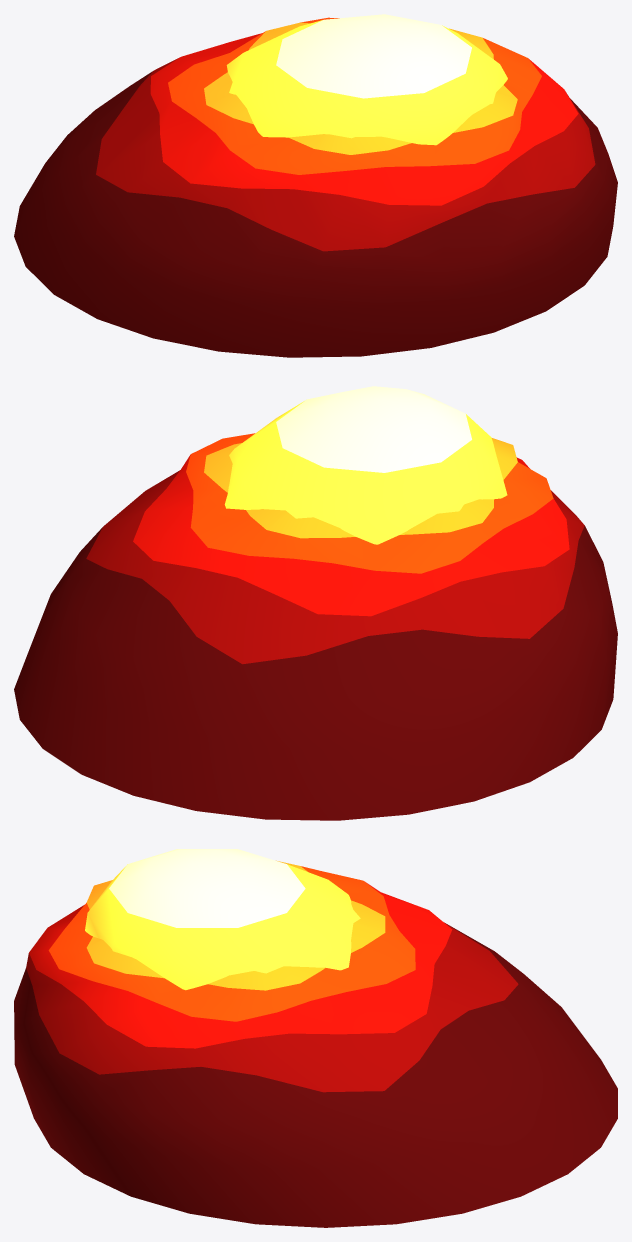
File: shot_pellet.glb
The picture shows the model from 3 angles, top to bottom: view 1: azimuth 30°, elevation 25°; view 2: azimuth 150°, elevation 25°; view 3: azimuth 270°, elevation 25°; orthographic projection.
Visible parts, largest first — view 1: shot_pellet_fire, shot_pellet_heart; view 2: shot_pellet_fire, shot_pellet_heart; view 3: shot_pellet_fire, shot_pellet_heart.
Part boxes in pixels (x1,y1,x2,y2): shot_pellet_fire: [14, 17, 617, 357]; shot_pellet_heart: [226, 14, 507, 145]; shot_pellet_fire: [14, 433, 617, 820]; shot_pellet_heart: [224, 386, 507, 544]; shot_pellet_fire: [14, 860, 617, 1227]; shot_pellet_heart: [85, 849, 360, 990].
Size of the model in its own units: 7 by 3.15 by 7.19.
